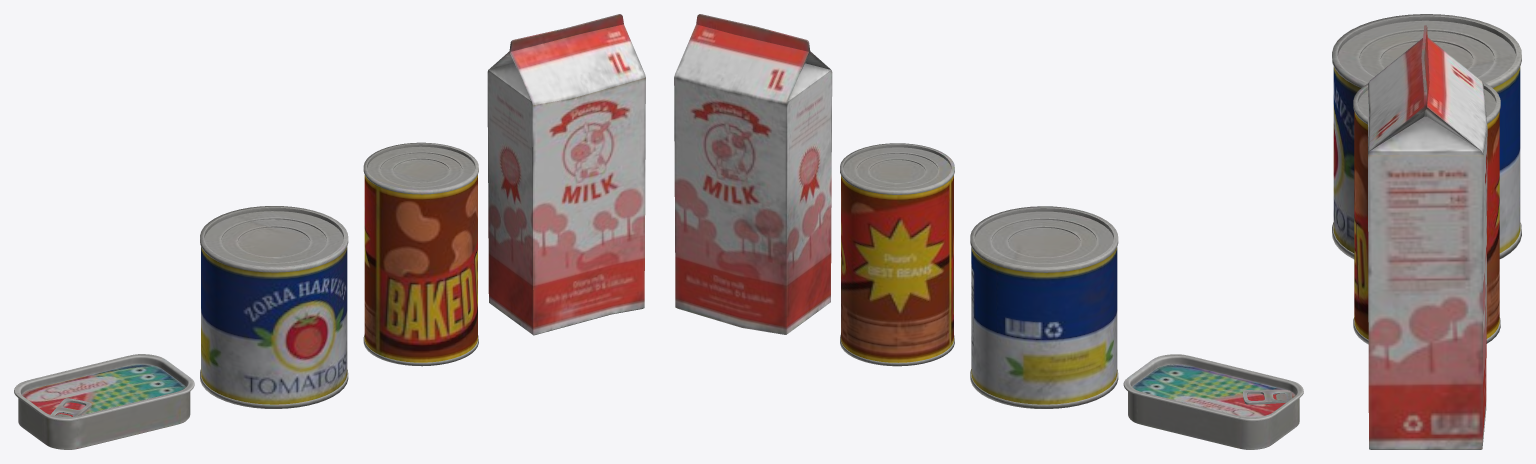
The model's file is long_life_food.glb.
3 views of the same model, side by side, from view 1: azimuth 30°, elevation 25°; view 2: azimuth 150°, elevation 25°; view 3: azimuth 270°, elevation 25° (orthographic). The views are drawn at different scales.
Visible parts, largest first — view 1: long_life_food_milk, long_life_food_tomatoes, long_life_food_beans, long_life_food_sardines; view 2: long_life_food_milk, long_life_food_tomatoes, long_life_food_beans, long_life_food_sardines; view 3: long_life_food_milk, long_life_food_tomatoes, long_life_food_beans.
Boxes of the visible parts, x1,y1,x2,y2 form: long_life_food_milk: (487,14,645,335); long_life_food_tomatoes: (200,206,348,408); long_life_food_beans: (363,142,478,366); long_life_food_sardines: (14,354,194,449); long_life_food_milk: (674,14,832,334); long_life_food_tomatoes: (970,206,1118,408); long_life_food_beans: (840,143,954,366); long_life_food_sardines: (1123,354,1303,449); long_life_food_milk: (1368,25,1487,449); long_life_food_tomatoes: (1332,14,1521,259); long_life_food_beans: (1353,81,1500,344).
Size of the model in its own units: 0.5238 by 0.2376 by 0.1136.
Materials: 1 (1 with a texture image).
